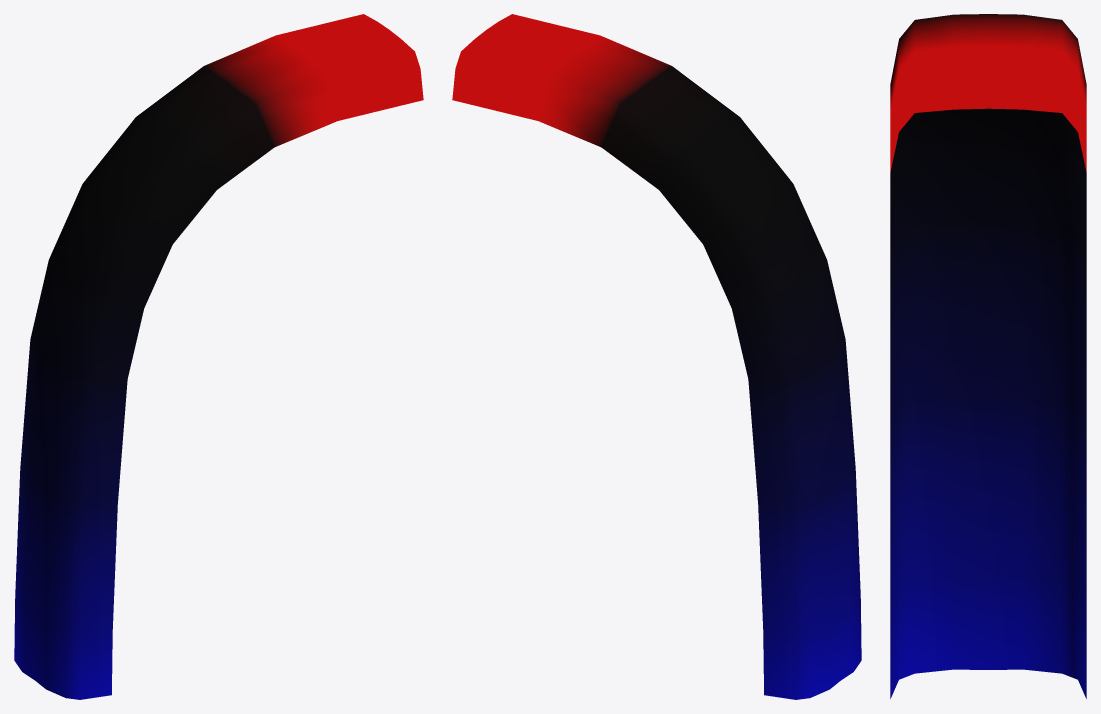
Rendered from TSI_Waterfall_04A.fbx.
3 views of the same model, side by side, from view 1: azimuth 30°, elevation 25°; view 2: azimuth 150°, elevation 25°; view 3: azimuth 270°, elevation 25° (orthographic). The views are drawn at different scales.
Parts seen in each view (by area): view 1: TSI_Waterfall_04A; view 2: TSI_Waterfall_04A; view 3: TSI_Waterfall_04A.
Part boxes in pixels (box(x1,y1,x2,y2)): TSI_Waterfall_04A: box(14, 14, 423, 699); TSI_Waterfall_04A: box(452, 14, 861, 699); TSI_Waterfall_04A: box(890, 14, 1086, 698).
Size of the model in its own units: 3.95 by 6 by 1.32.
